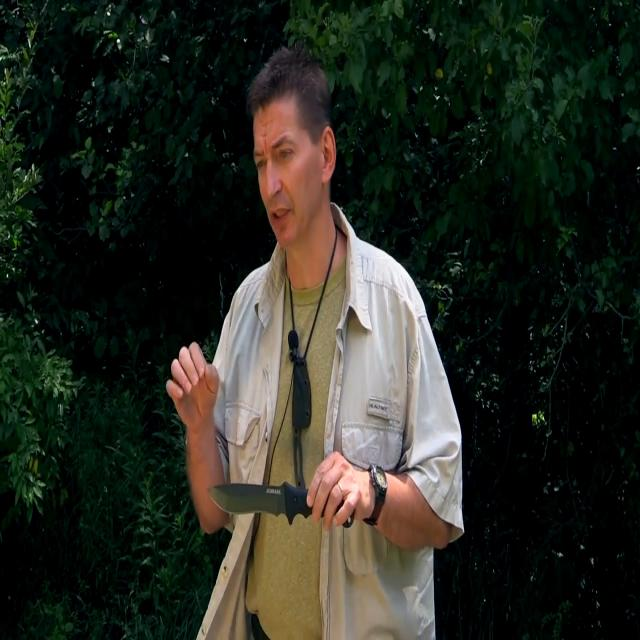knife: (207, 480, 307, 526)
